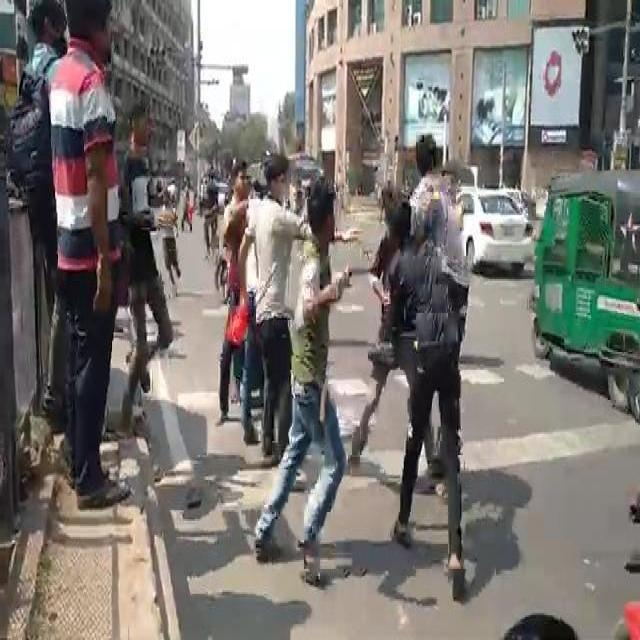fight: (230, 93, 483, 534)
non-fight: (12, 5, 152, 503)
